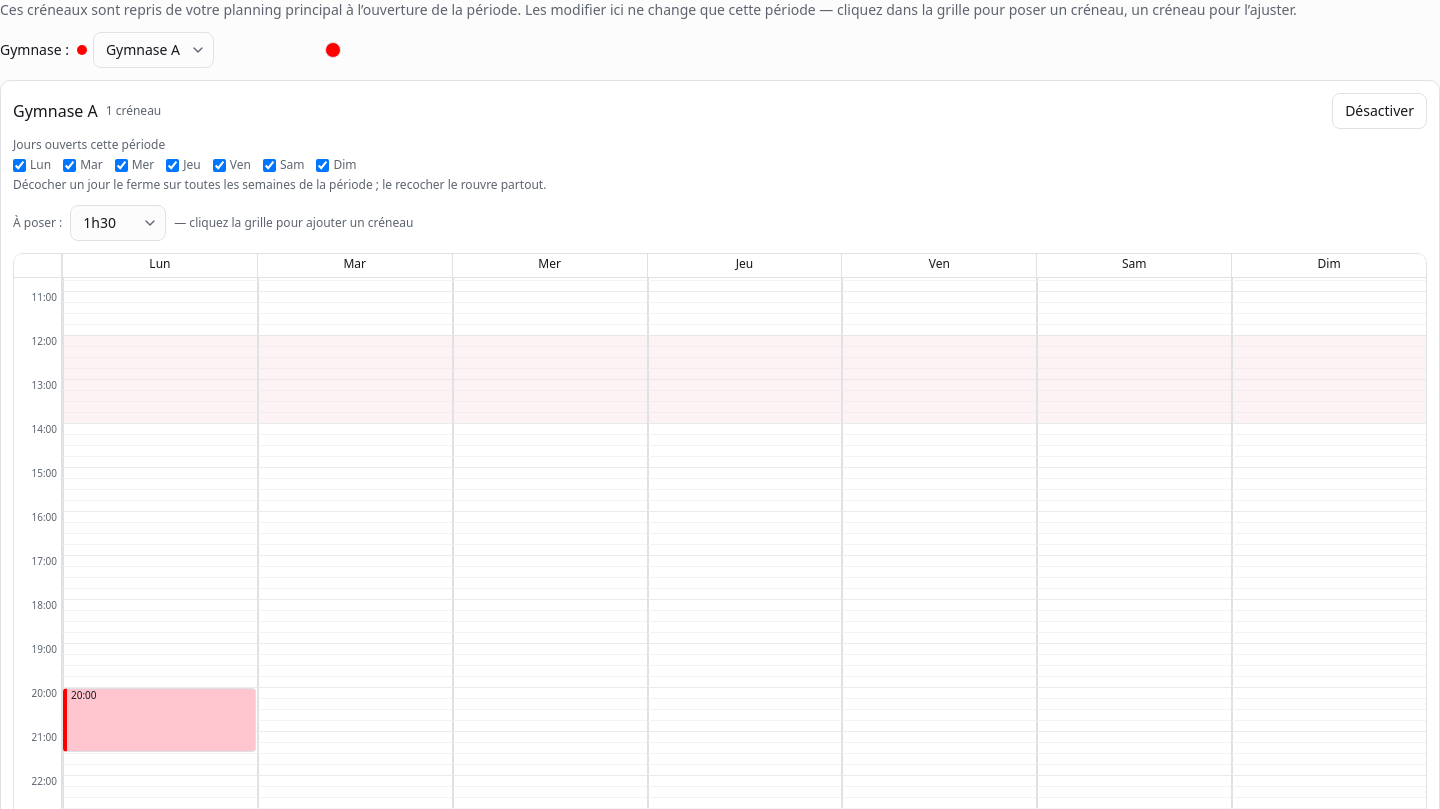
PeriodVenues — la grille de la période, gymnase par gymnase › REFUSE d'enregistrer un créneau qui franchirait minuit, et ne l'envoie pas
(page scrolled)
Click the button titled "20:00 · Lun 1h30 · capacité 1 — modifier". click: click(159, 720)
box: [63,688,256,752]
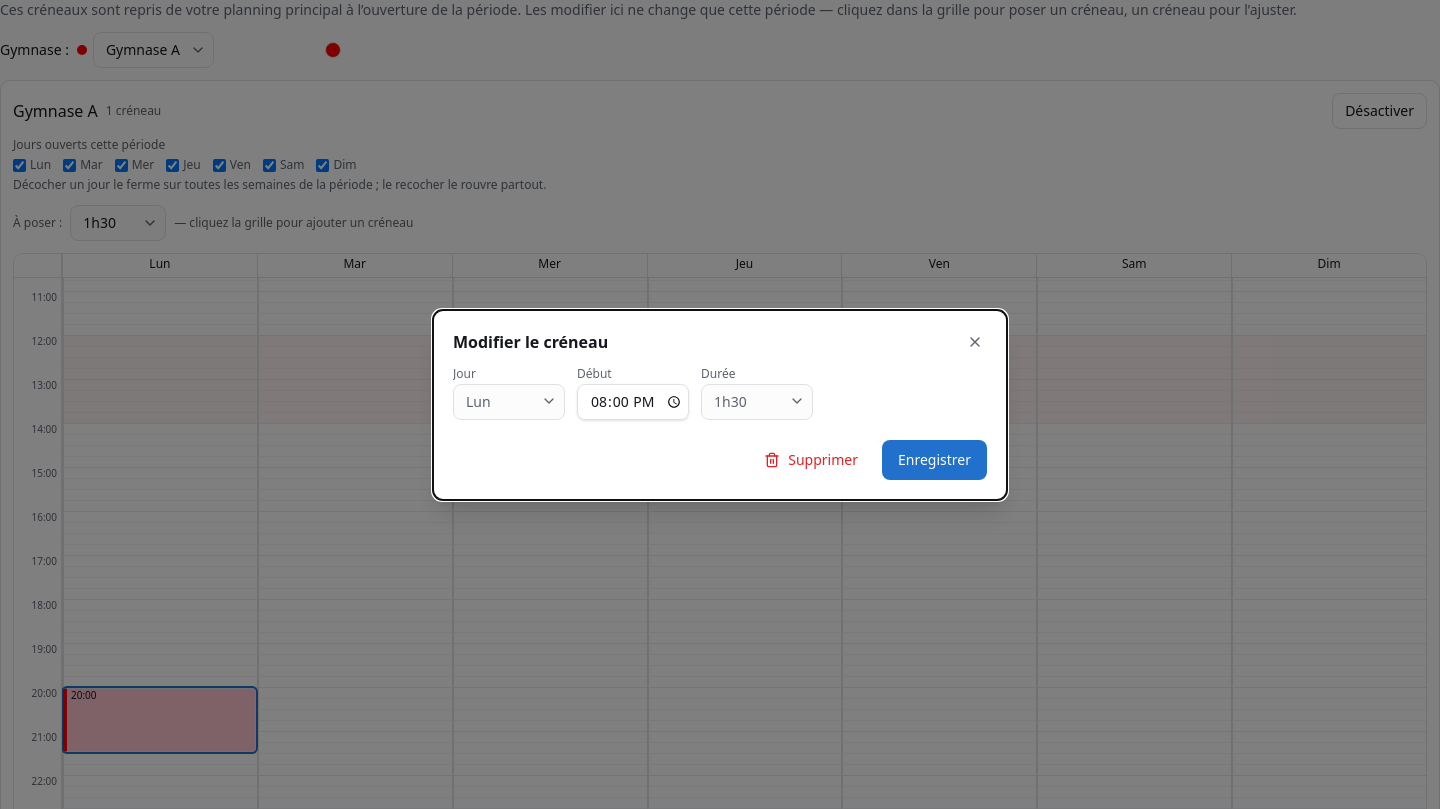
Replace the text in the time field labelled "Début" with "23:30". click: (633, 402)
box: [577,384,689,420]
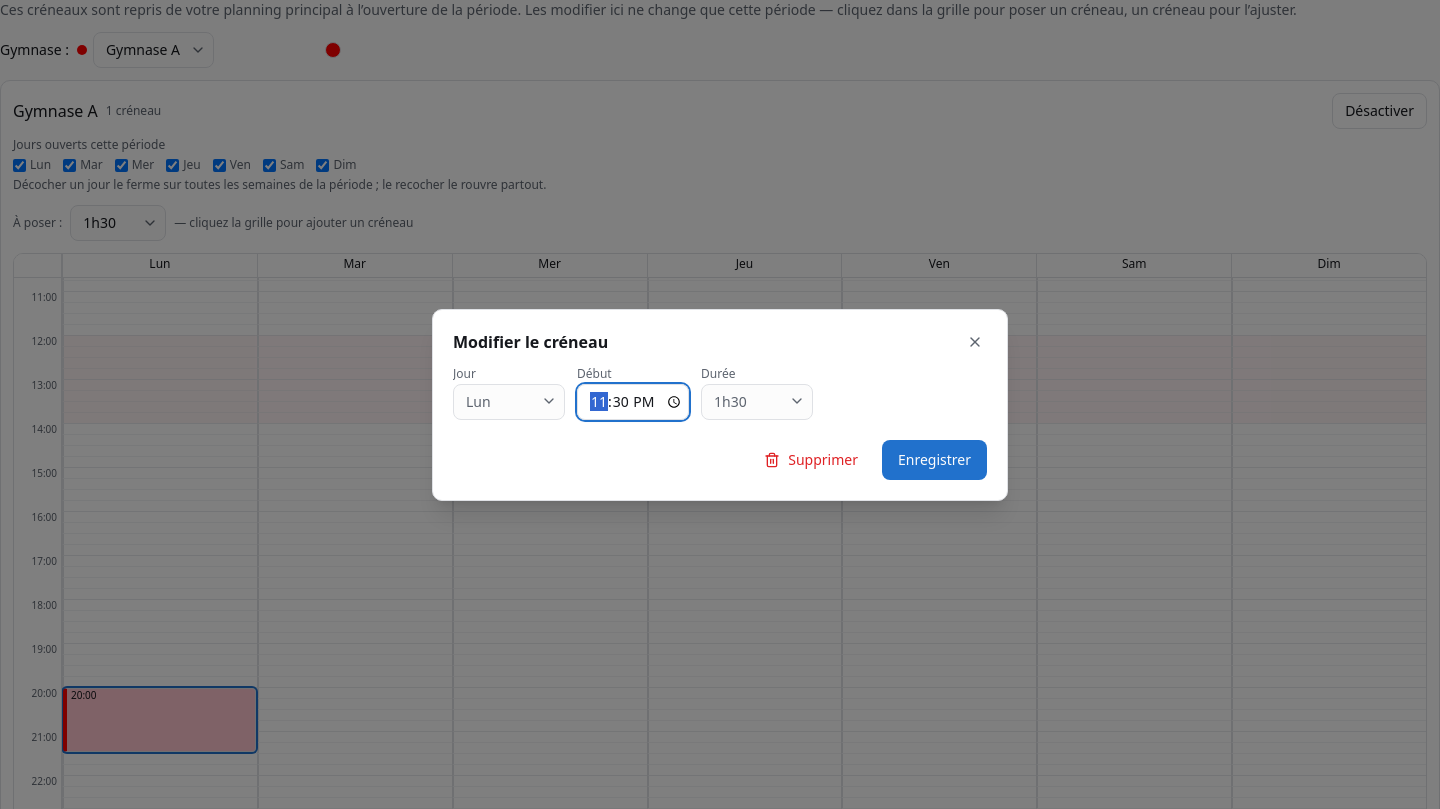
Select "1h30" in the dropdown labelled "Durée". click: (757, 402)
box: [701,384,813,420]
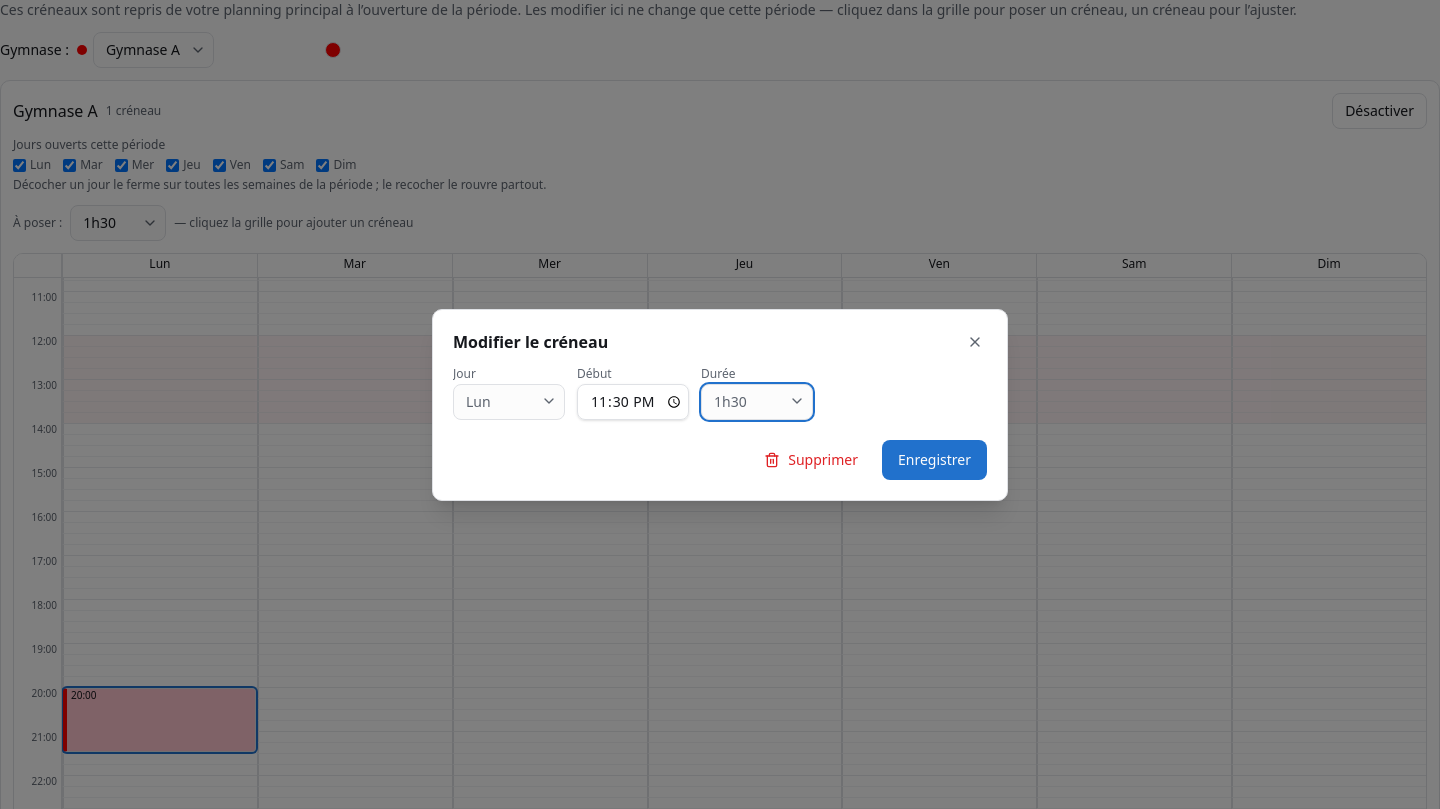
Click the button "Enregistrer". click: click(934, 460)
box: [882,440,987,480]
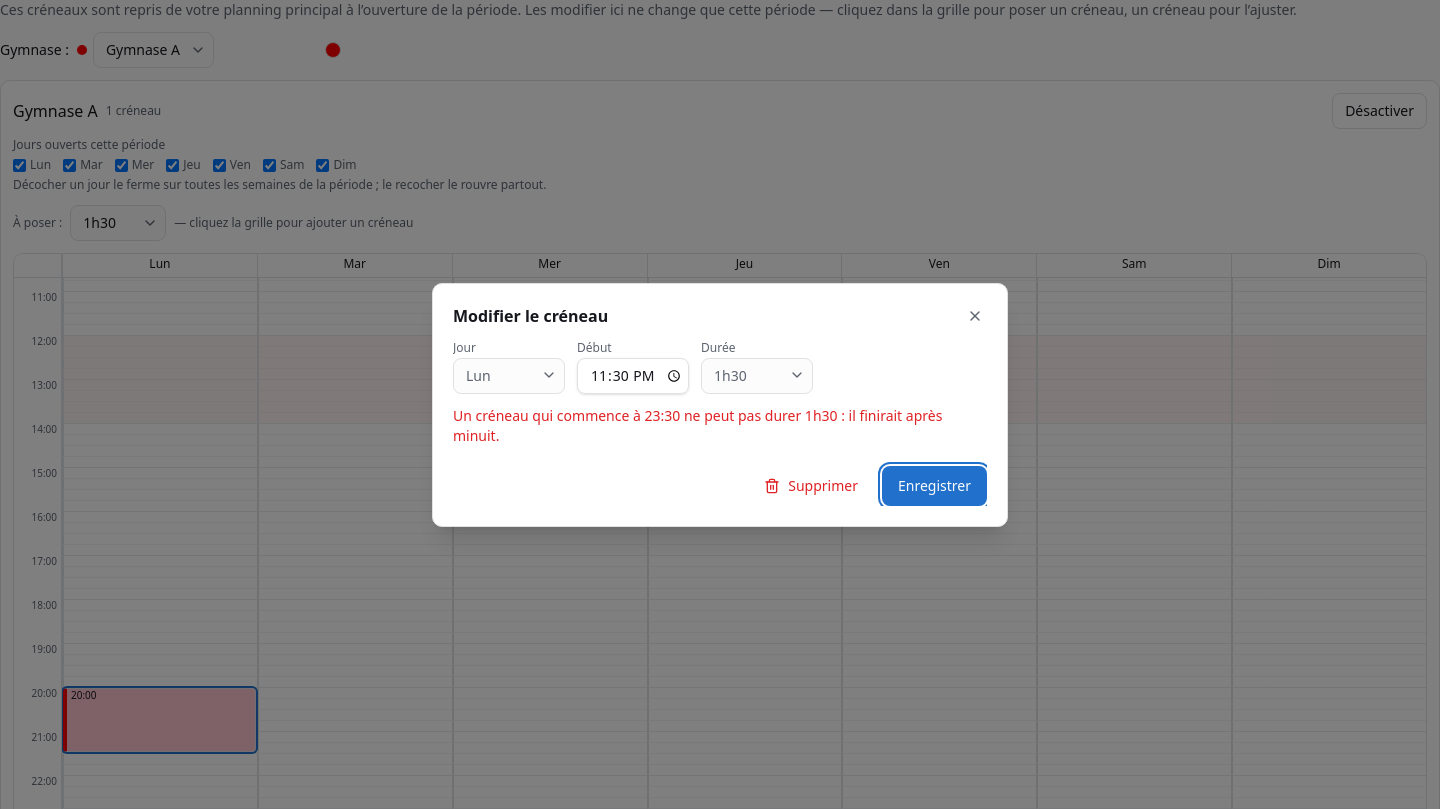
Expected: the message shows "après minuit", [453,406,942,445]
